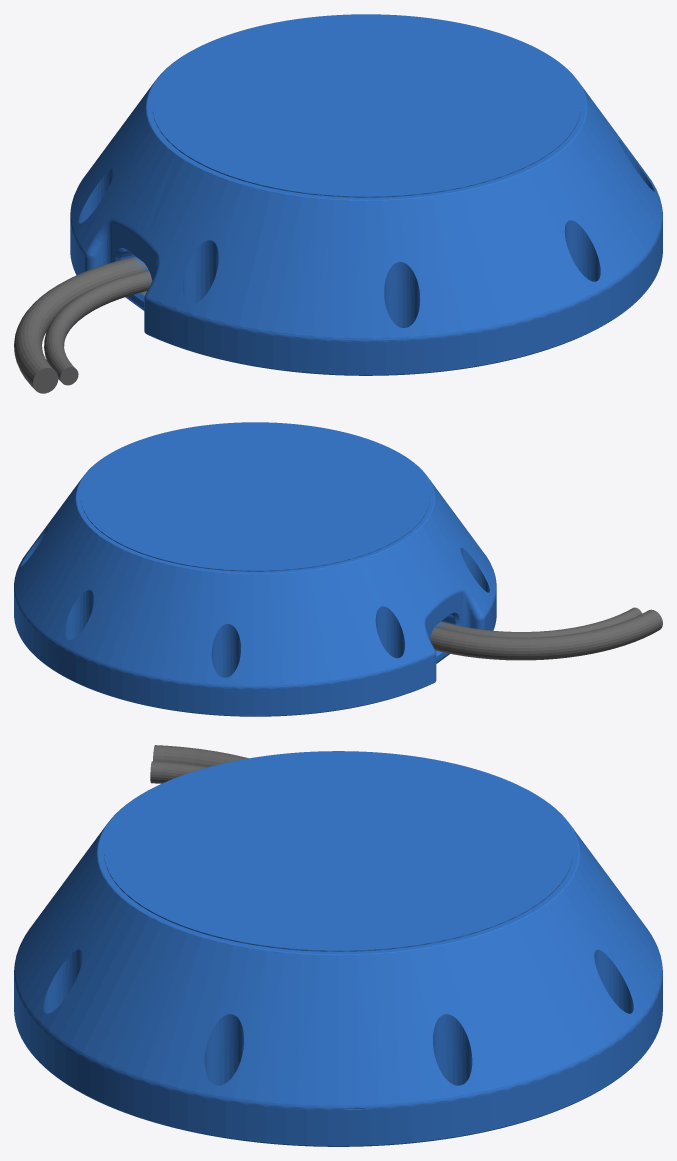
The model's file is link0_fixed_axis.dae.
3 views of the same model, one above another, from view 1: azimuth 30°, elevation 25°; view 2: azimuth 150°, elevation 25°; view 3: azimuth 270°, elevation 25° (orthographic). The views are drawn at different scales.
Parts seen in each view (by area): view 1: Link0; view 2: Link0; view 3: Link0.
Boxes of the visible parts, bbox=[...] form: Link0: bbox=[14, 14, 662, 393]; Link0: bbox=[14, 422, 662, 716]; Link0: bbox=[14, 745, 662, 1146].
Size of the model in its own units: 0.1942 by 0.148 by 0.04.
